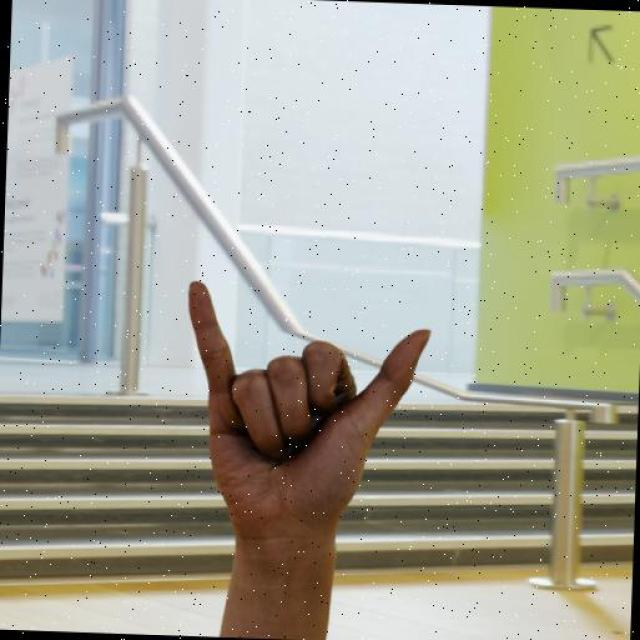Y: (175, 277, 436, 554)
